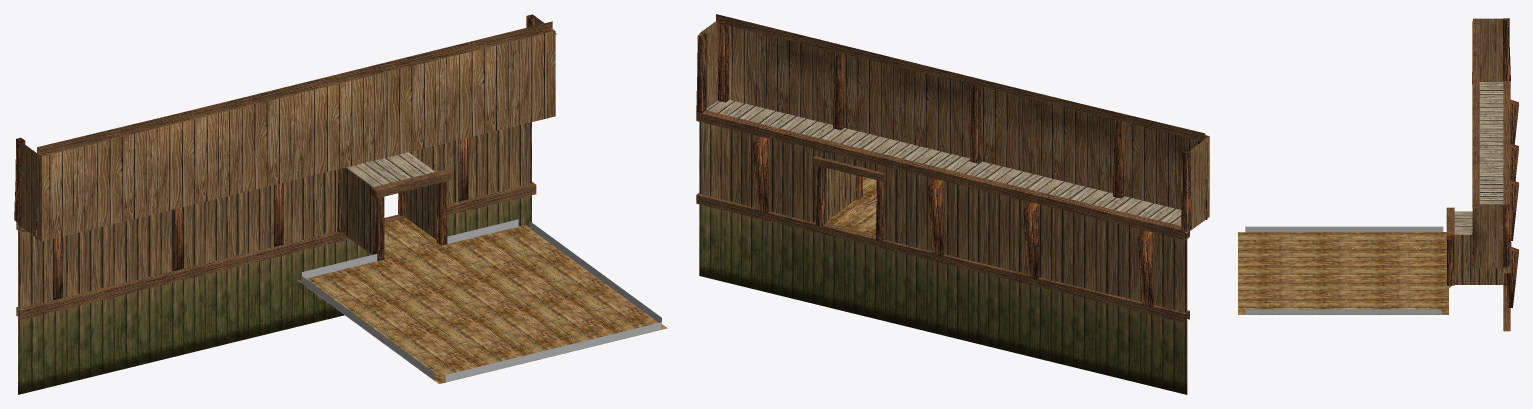
Rendered from LAKETOWN_WAREHOUSE2_PS_WH2_SIDEWALL38837__GX.obj.
3 renders of one model, left to right at view 1: azimuth 30°, elevation 25°; view 2: azimuth 150°, elevation 25°; view 3: azimuth 270°, elevation 25°, orthographic. The views are drawn at different scales.
Visible parts, largest first — view 1: dewall38837__GX; view 2: dewall38837__GX; view 3: dewall38837__GX.
Boxes of the visible parts, bbox=[...] form: dewall38837__GX: bbox=[14, 14, 667, 394]; dewall38837__GX: bbox=[696, 14, 1209, 394]; dewall38837__GX: bbox=[1238, 18, 1518, 331].
Size of the model in its own units: 2267 by 1095 by 1434.
